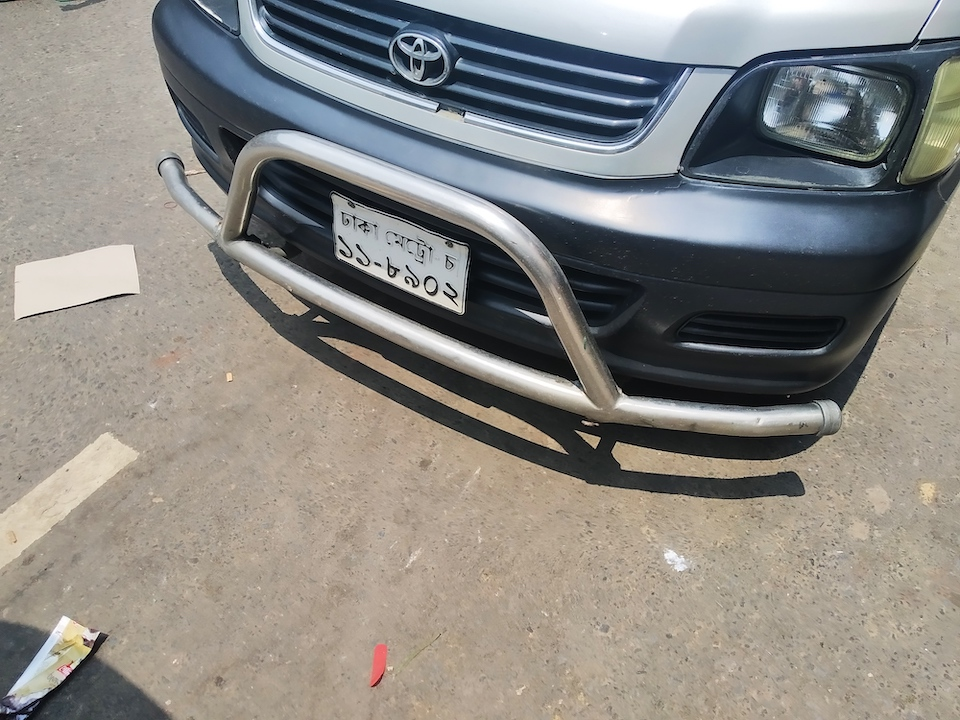registration_plate: (329, 188, 469, 318)
